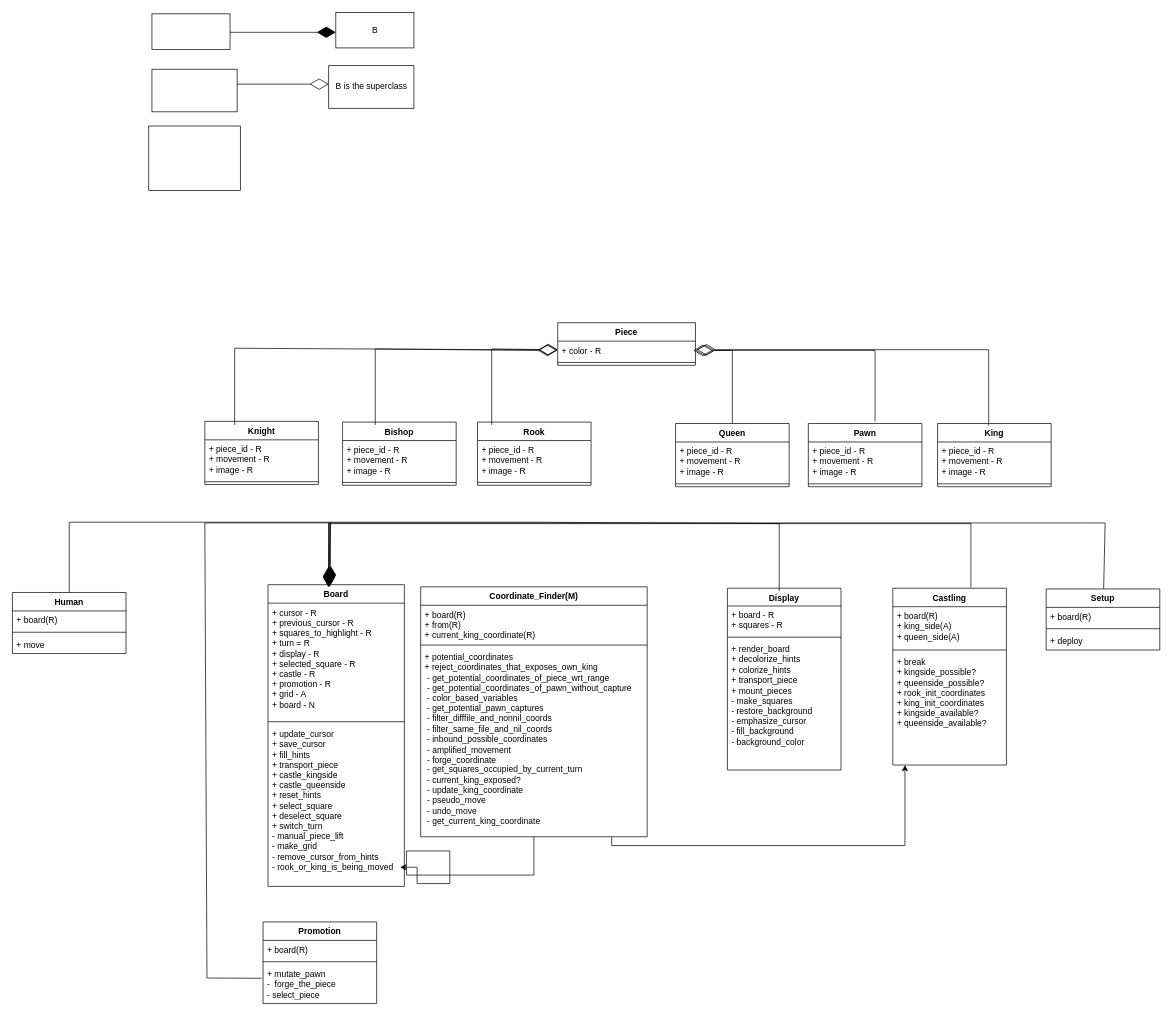
The diagram is 1172 pixels wide and 1018 high, and some of its shapes have lost their labels. Each missing label, with the centre of its shape:
A depends on B: (190,31)
A is inheriting frm B: (194,90)
R - attr_reader W - attr_writer A - attr_accessor N - plain instance M - module: (194,158)
